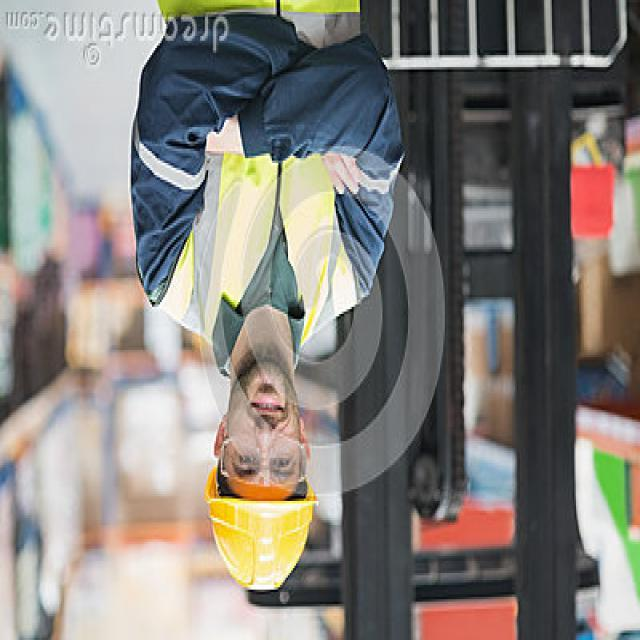safetyhelmet: (202, 403, 319, 597)
